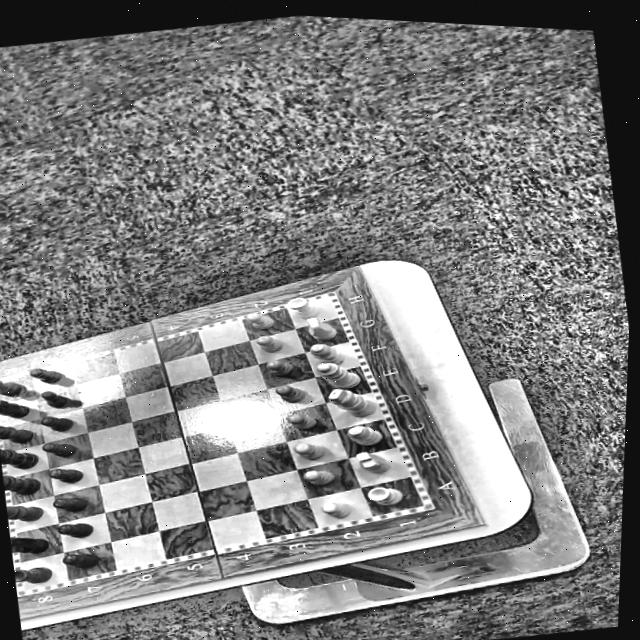chessboard: (0, 295, 422, 587)
